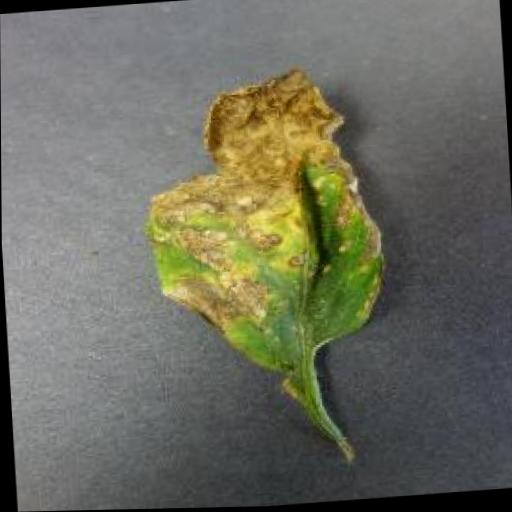Bacterial Spot: (139, 57, 392, 384)
